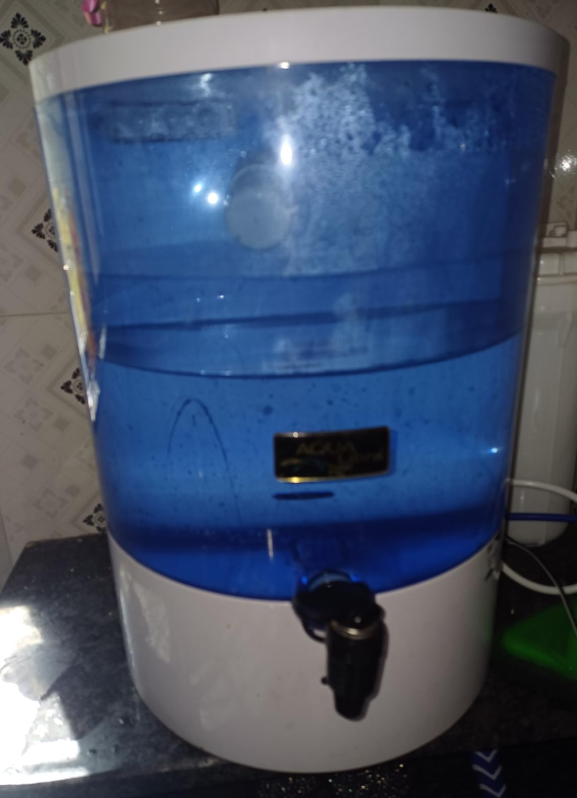water purifier: (14, 13, 572, 782)
